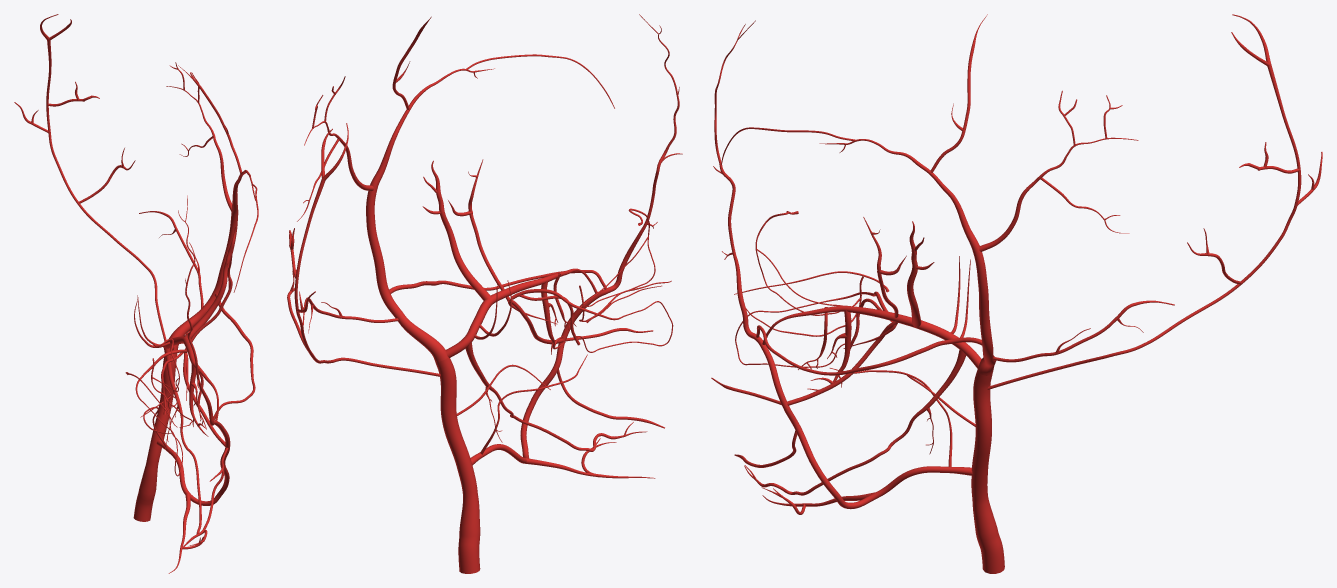
Rendered from circulatorio-external-carotid-artery-l.glb.
3 renders of one model, left to right at view 1: azimuth 30°, elevation 25°; view 2: azimuth 150°, elevation 25°; view 3: azimuth 270°, elevation 25°, orthographic. The views are drawn at different scales.
Visible parts, largest first — view 1: Superficial temporal artery.l, External carotid artery.l, Occipital artery.l, Maxillary artery.l, Facial artery.l, Angular artery.l, Inferior alveolar artery.l, Posterior deep temporal artery.l, Transverse facial artery.l, Posterior lateral nasal branches of sphenopalatine artery..l, Anterior deep temporal artery.l, Buccal artery.l (+1 smaller); view 2: Superficial temporal artery.l, External carotid artery.l, Occipital artery.l, Maxillary artery.l, Facial artery.l, Angular artery.l, Posterior deep temporal artery.l, Inferior alveolar artery.l, Transverse facial artery.l, Posterior lateral nasal branches of sphenopalatine artery..l, Ascending pharyngeal artery.l, Anterior deep temporal artery.l (+1 smaller); view 3: Superficial temporal artery.l, External carotid artery.l, Occipital artery.l, Maxillary artery.l, Facial artery.l, Angular artery.l, Inferior alveolar artery.l, Transverse facial artery.l, Posterior lateral nasal branches of sphenopalatine artery..l, Posterior deep temporal artery.l.
Part boxes in pixels (x1,y1,x2,y2): Superficial temporal artery.l: (139,62,255,349); External carotid artery.l: (133,349,177,521); Occipital artery.l: (14,14,166,341); Maxillary artery.l: (163,336,208,436); Facial artery.l: (156,431,230,505); Angular artery.l: (178,195,226,433); Inferior alveolar artery.l: (164,348,207,543); Posterior deep temporal artery.l: (183,227,235,338); Transverse facial artery.l: (213,293,255,420); Posterior lateral nasal branches of sphenopalatine artery..l: (151,338,192,427); Anterior deep temporal artery.l: (185,253,232,350); Buccal artery.l: (183,352,225,446); Superficial temporal artery.l: (297,16,494,361); External carotid artery.l: (435,357,480,573); Occipital artery.l: (287,123,440,376); Maxillary artery.l: (446,273,576,357); Facial artery.l: (470,312,578,465); Angular artery.l: (574,14,682,315); Posterior deep temporal artery.l: (422,160,491,300); Inferior alveolar artery.l: (465,342,624,451); Transverse facial artery.l: (389,270,607,293); Posterior lateral nasal branches of sphenopalatine artery..l: (579,208,661,321); Ascending pharyngeal artery.l: (456,354,587,454); Anterior deep temporal artery.l: (448,159,510,301); Superficial temporal artery.l: (819,14,1174,375); External carotid artery.l: (971,370,1004,573); Occipital artery.l: (987,14,1322,389); Maxillary artery.l: (798,306,981,390); Facial artery.l: (771,372,972,509); Angular artery.l: (713,20,776,373); Inferior alveolar artery.l: (755,350,966,495); Transverse facial artery.l: (756,325,982,375); Posterior lateral nasal branches of sphenopalatine artery..l: (746,211,863,336); Posterior deep temporal artery.l: (907,221,934,327).
Size of the model in its own units: 0.0746 by 0.1993 by 0.1916.
